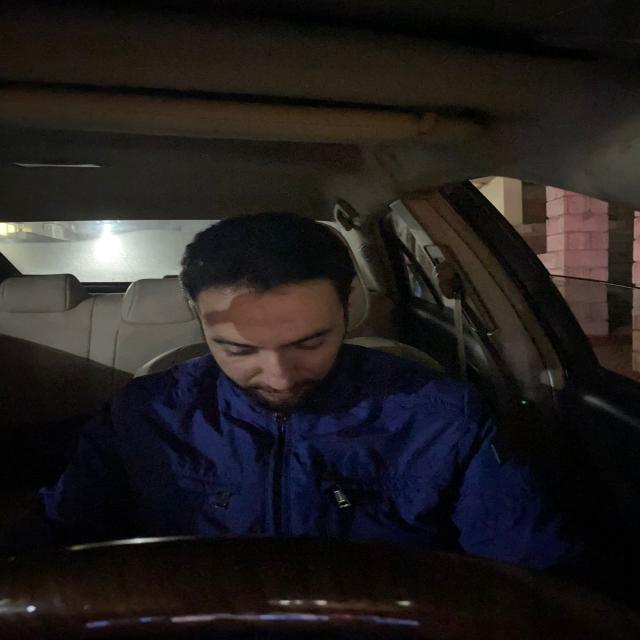drowsy: (175, 209, 359, 410)
